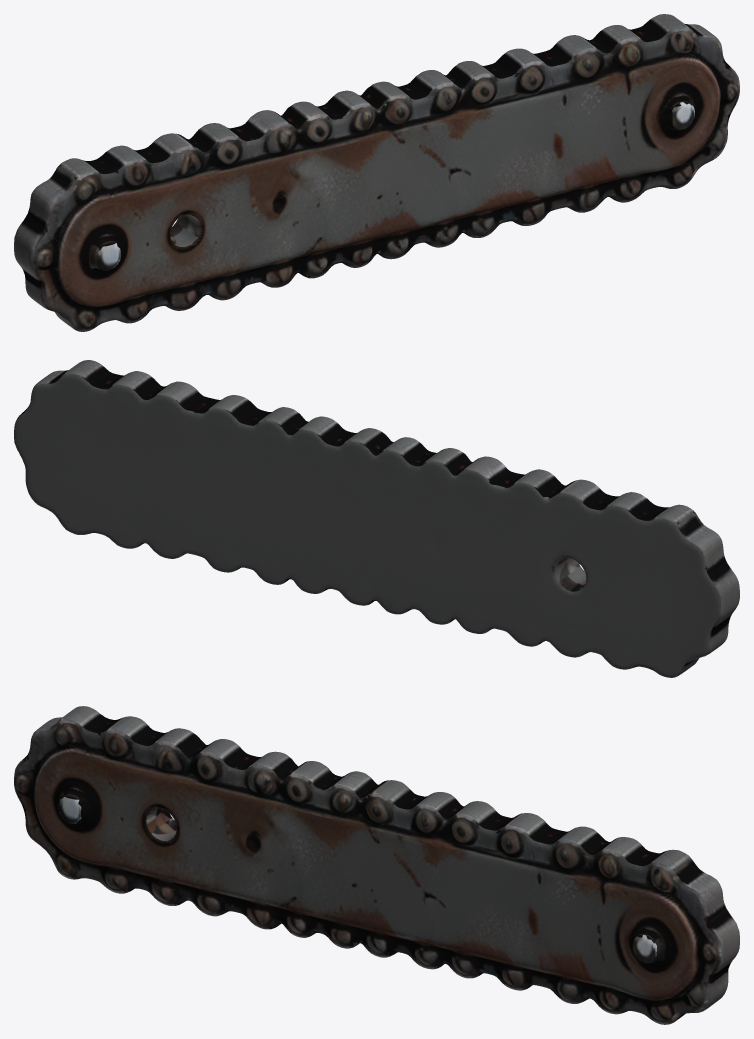
Rendered from source-85.glb.
3 views of the same model, one above another, from view 1: azimuth 30°, elevation 25°; view 2: azimuth 150°, elevation 25°; view 3: azimuth 330°, elevation 25° (orthographic).
Parts seen in each view (by area): view 1: tmposdlmwvz.ply; view 2: tmposdlmwvz.ply; view 3: tmposdlmwvz.ply.
Part boxes in pixels (bbox=[...]): tmposdlmwvz.ply: bbox=[14, 14, 739, 331]; tmposdlmwvz.ply: bbox=[14, 360, 739, 677]; tmposdlmwvz.ply: bbox=[14, 706, 739, 1024].
Bounding box in the file's own units: 1.96 × 0.4374 × 0.1437.
Materials: 1 (1 with a texture image).
